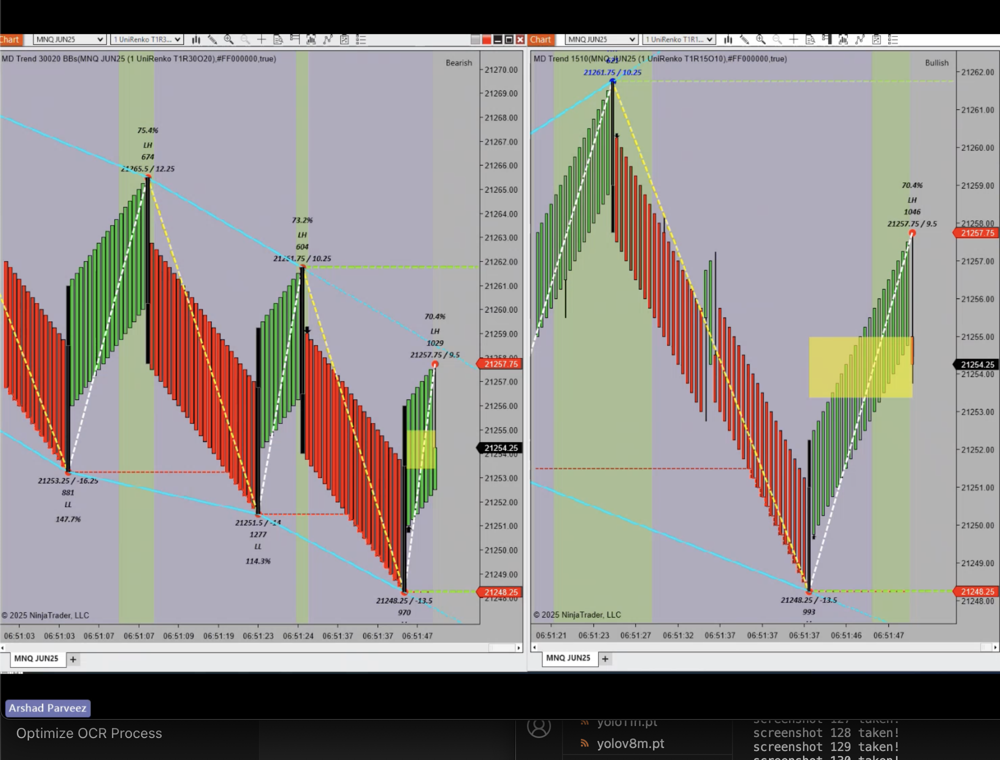LH: (137, 138, 164, 157), (900, 191, 927, 210), (290, 227, 315, 244), (426, 324, 449, 342)
LL: (56, 496, 81, 516), (248, 538, 269, 556)
